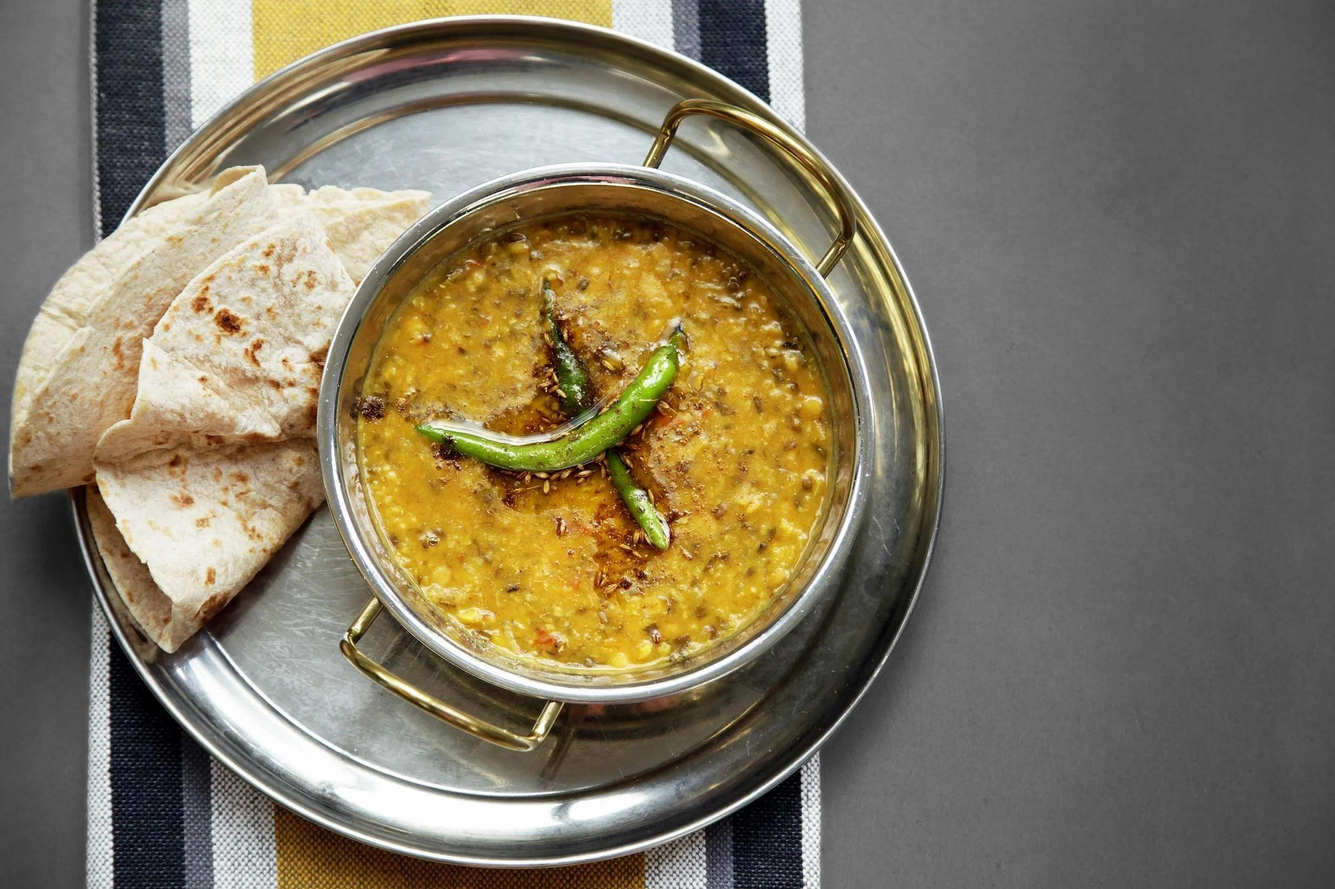Dal: (356, 221, 831, 666)
